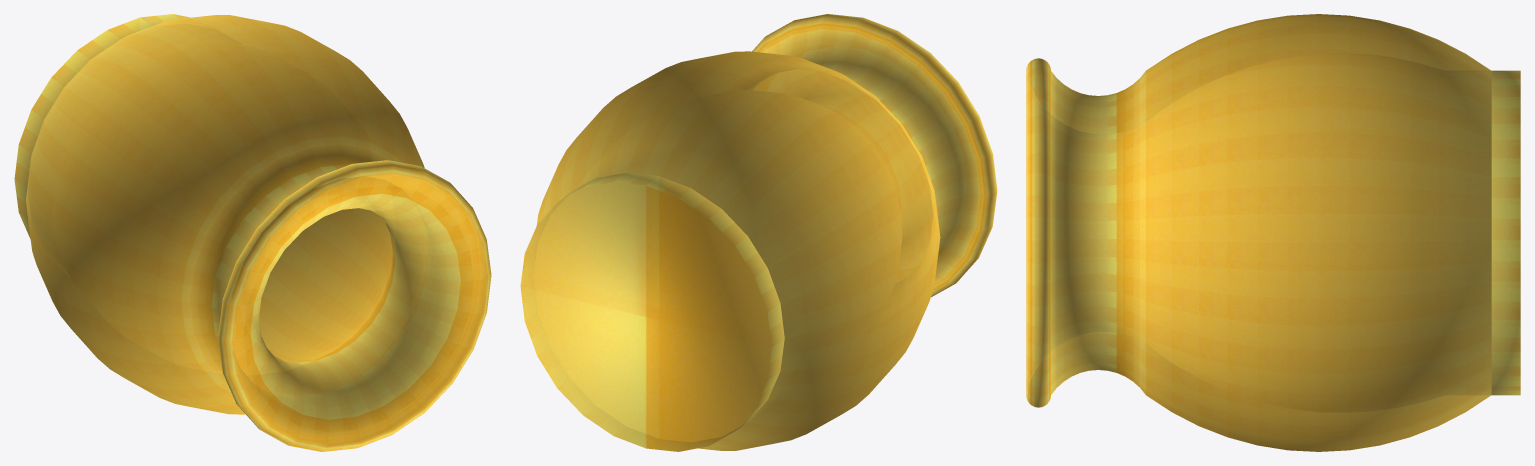
The model's file is model_align.obj.
3 views of the same model, side by side, from view 1: azimuth 30°, elevation 25°; view 2: azimuth 150°, elevation 25°; view 3: azimuth 270°, elevation 25° (orthographic). The views are drawn at different scales.
Parts seen in each view (by area): view 1: mesh1_mesh1-geometry; view 2: mesh1_mesh1-geometry; view 3: mesh1_mesh1-geometry.
Part boxes in pixels (x1,y1,x2,y2): mesh1_mesh1-geometry: [14, 14, 491, 451]; mesh1_mesh1-geometry: [520, 14, 997, 451]; mesh1_mesh1-geometry: [1026, 14, 1520, 451].
Bounding box in the file's own units: 0.087 × 0.087 × 0.0979.
